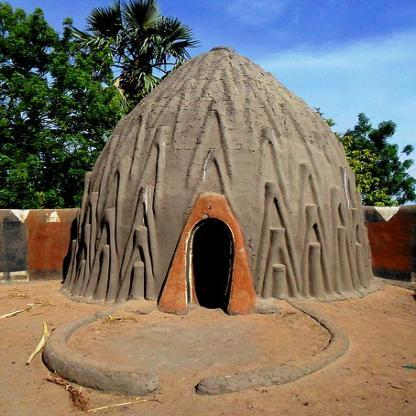Building Outline: (60, 46, 385, 315)
Door: (192, 222, 229, 310)
Door Hole: (187, 219, 233, 312)
Facade: (110, 136, 334, 314)
Ground Floor: (110, 136, 334, 314)
